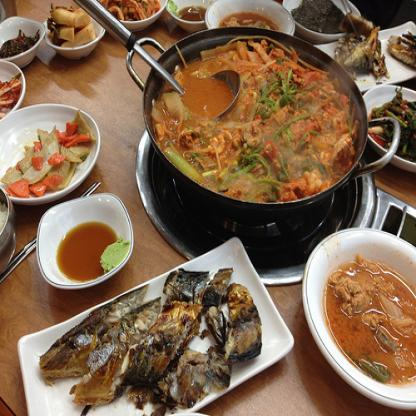Peixe: (35, 259, 258, 414)
